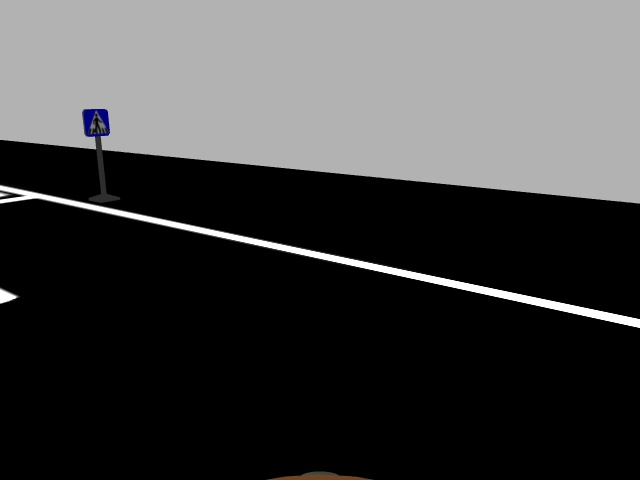crosswalk: (80, 104, 113, 138)
